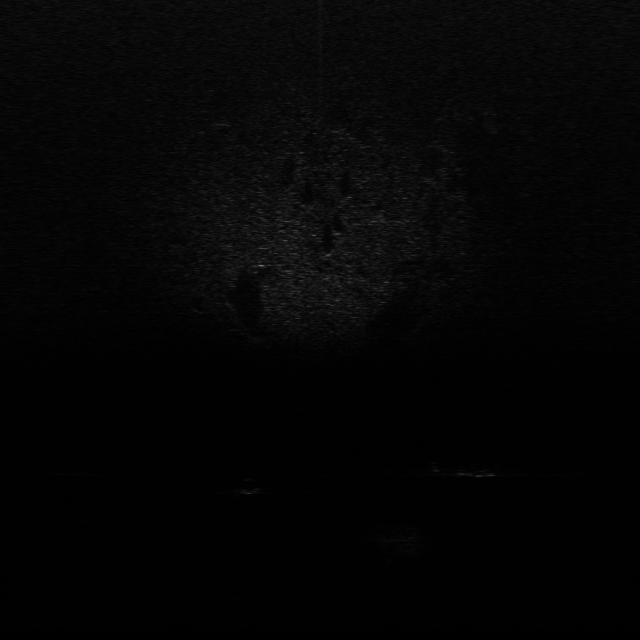ball: (238, 475, 270, 498)
circle cage: (369, 522, 422, 565)
human body: (427, 463, 517, 481)
